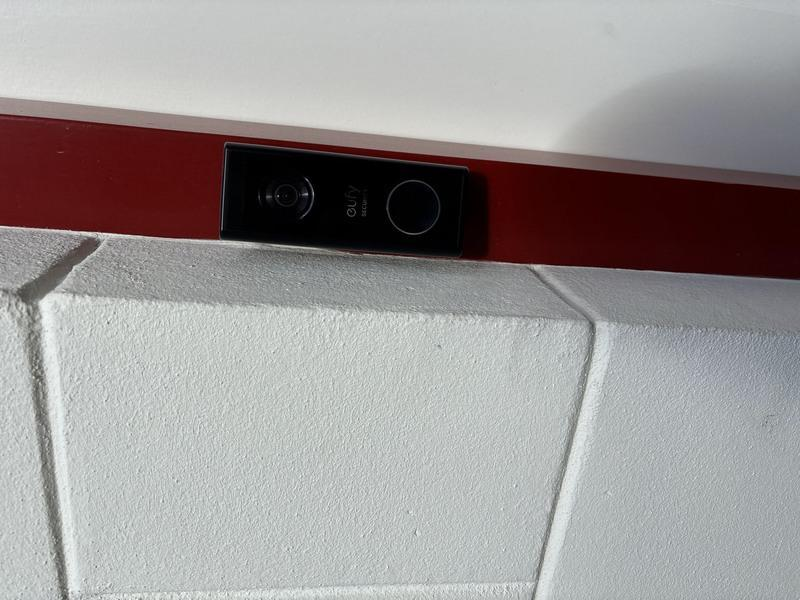doorbell: (347, 199, 465, 488)
